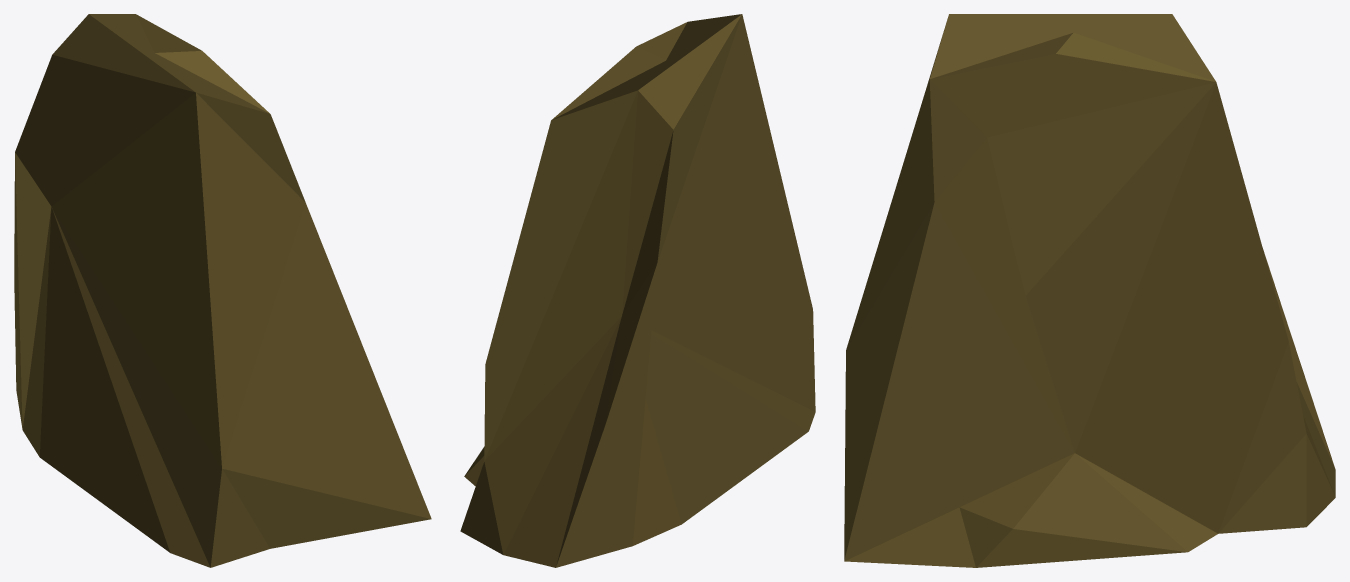
Rendered from Rock3.fbx.
3 renders of one model, left to right at view 1: azimuth 30°, elevation 25°; view 2: azimuth 150°, elevation 25°; view 3: azimuth 270°, elevation 25°, orthographic. The views are drawn at different scales.
Visible parts, largest first — view 1: Group1; view 2: Group1; view 3: Group1.
Boxes of the visible parts, x1,y1,x2,y2 form: Group1: [14, 14, 431, 567]; Group1: [460, 14, 815, 567]; Group1: [844, 14, 1335, 567].
Size of the model in its own units: 1724 by 2880 by 2832.
